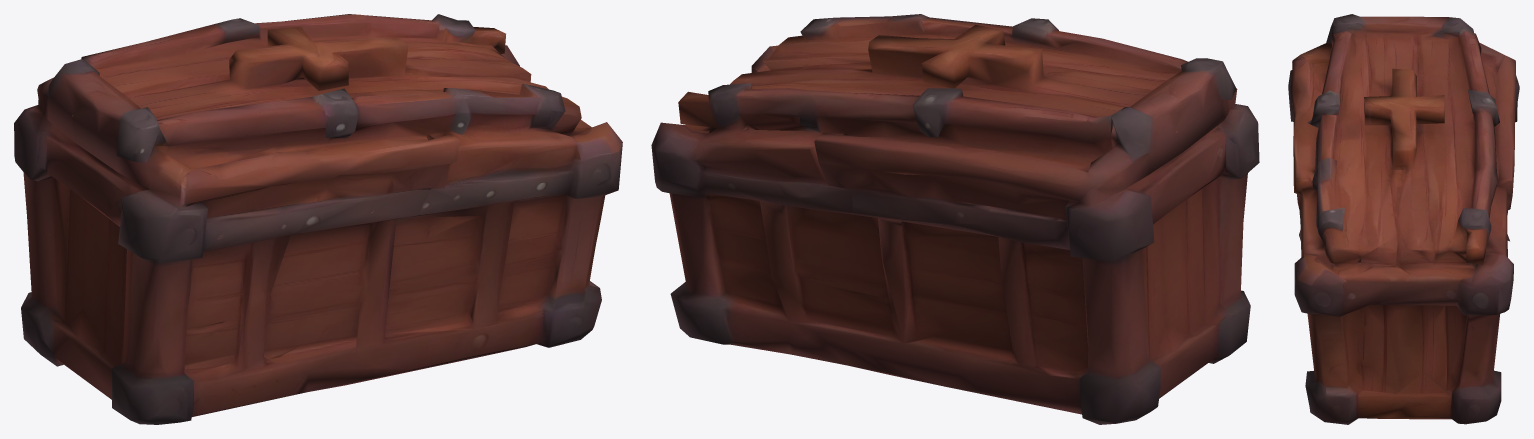
File: pro_coffin-BTDllvjs.glb
The picture shows the model from 3 angles, left to right: view 1: azimuth 30°, elevation 25°; view 2: azimuth 150°, elevation 25°; view 3: azimuth 270°, elevation 25°; orthographic projection. The views are drawn at different scales.
Visible parts, largest first — view 1: tripo_node_493abec2-b914-4803-b109-8d3c3766debb; view 2: tripo_node_493abec2-b914-4803-b109-8d3c3766debb; view 3: tripo_node_493abec2-b914-4803-b109-8d3c3766debb.
Part boxes in pixels (box(x1,y1,x2,y2)): tripo_node_493abec2-b914-4803-b109-8d3c3766debb: box(14, 14, 622, 424); tripo_node_493abec2-b914-4803-b109-8d3c3766debb: box(651, 14, 1259, 424); tripo_node_493abec2-b914-4803-b109-8d3c3766debb: box(1288, 14, 1519, 424).
Bounding box in the file's own units: 1 × 0.6227 × 0.5309.
Materials: 1 (1 with a texture image).
